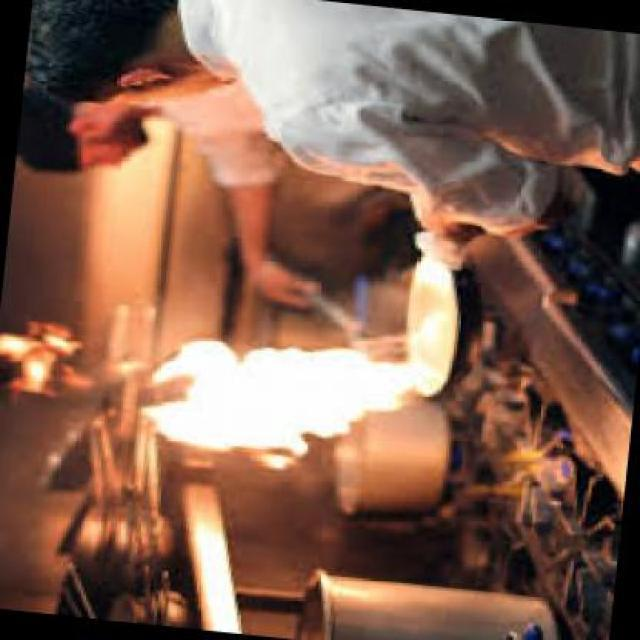Fire: (140, 318, 427, 463)
